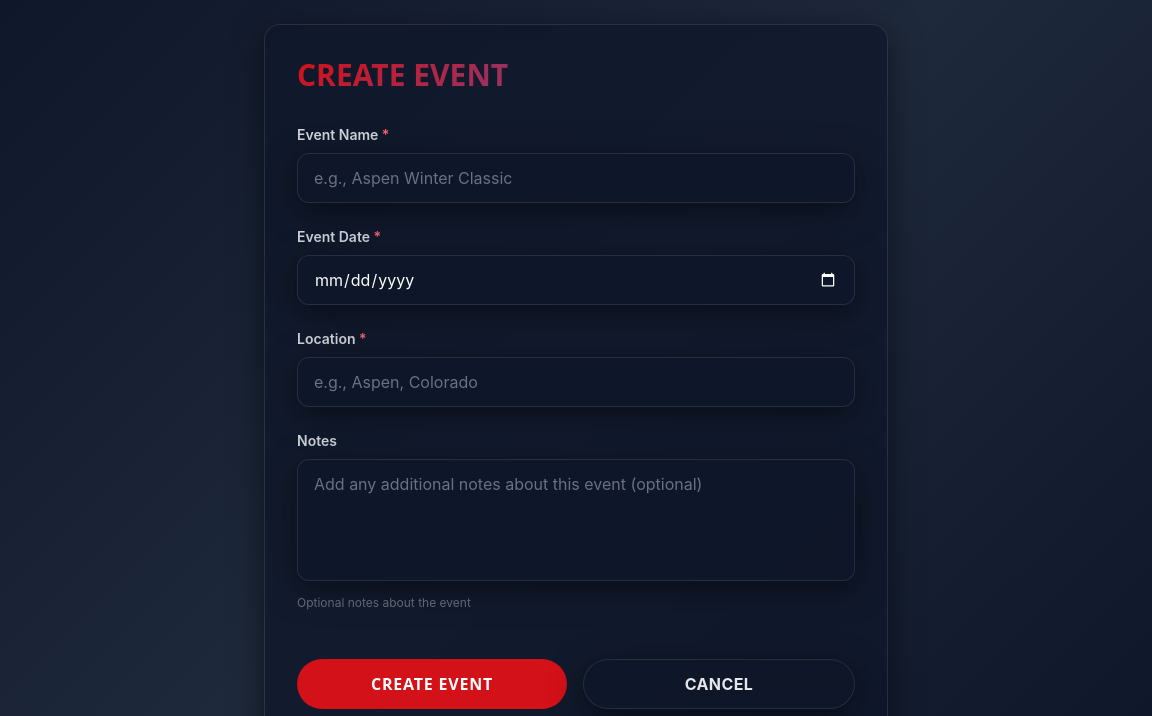
Test: EventForm › Validation › should clear field error when user starts typing
// Submit to trigger validation errors
Click the button "Create Event" at [432, 684], box [297,659,567,709]
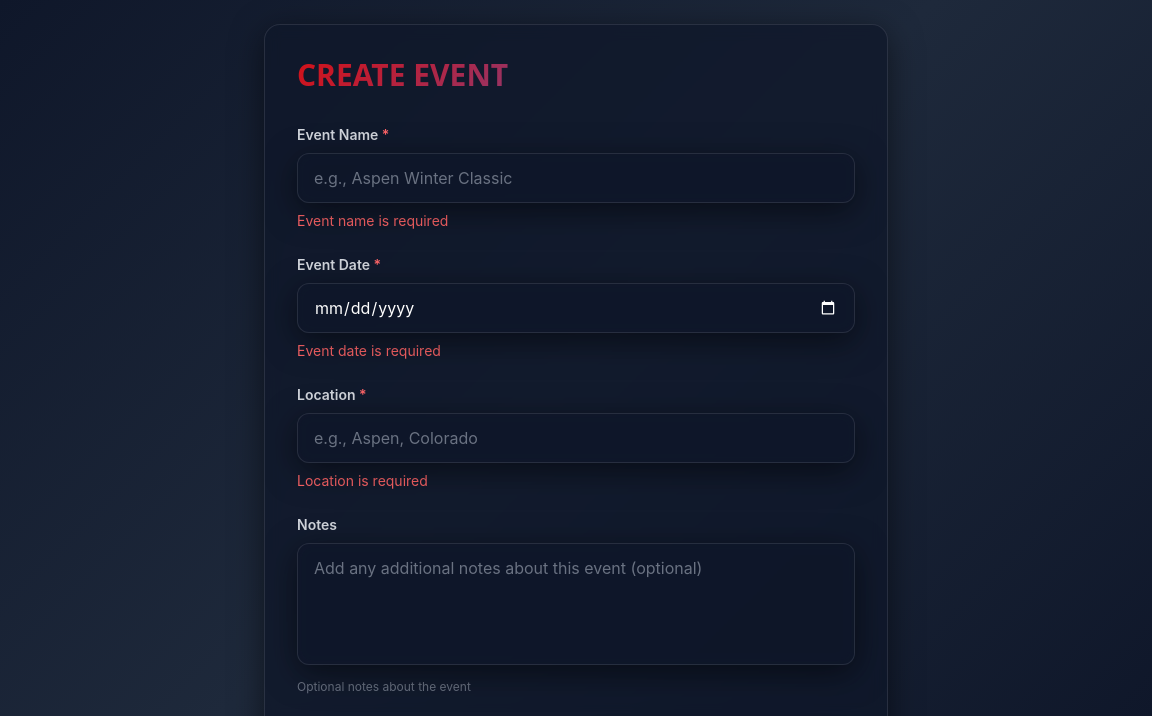
Expected: the text "Event name is required" is shown, [297,212,448,229]
// Type in event name field
Type "Test Event" into the field labelled "Event Name *" at [576, 178], box [297,153,855,203]
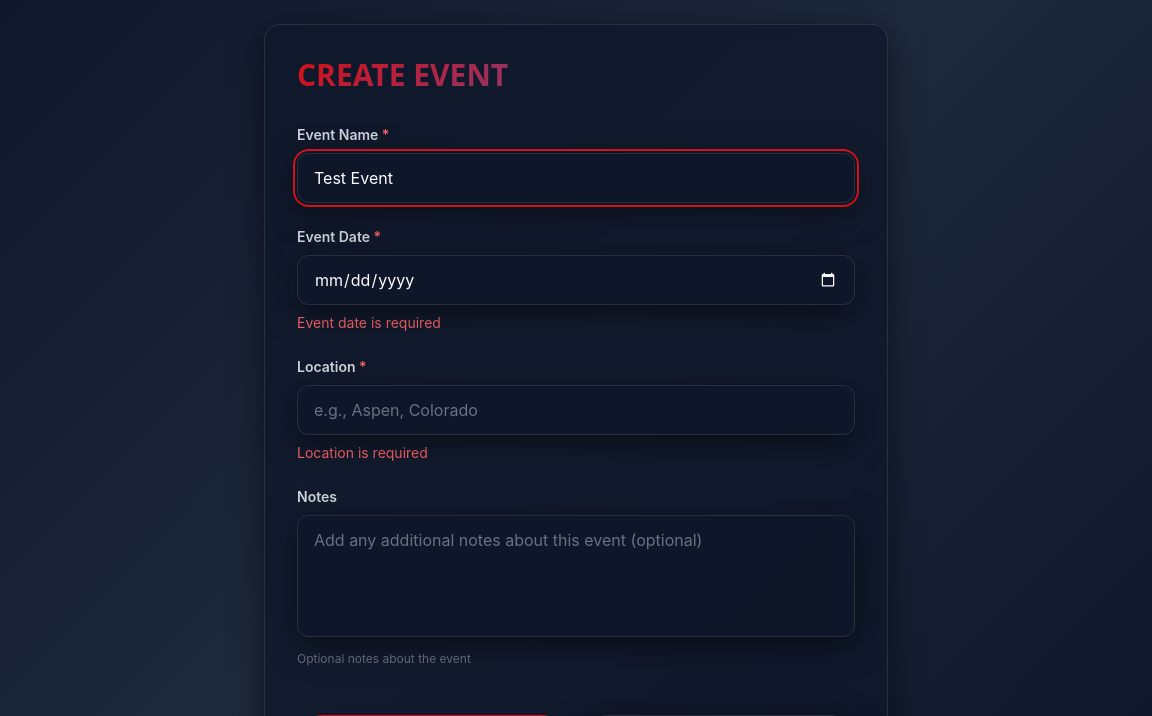
Expected: the text "Event name is required" is gone
